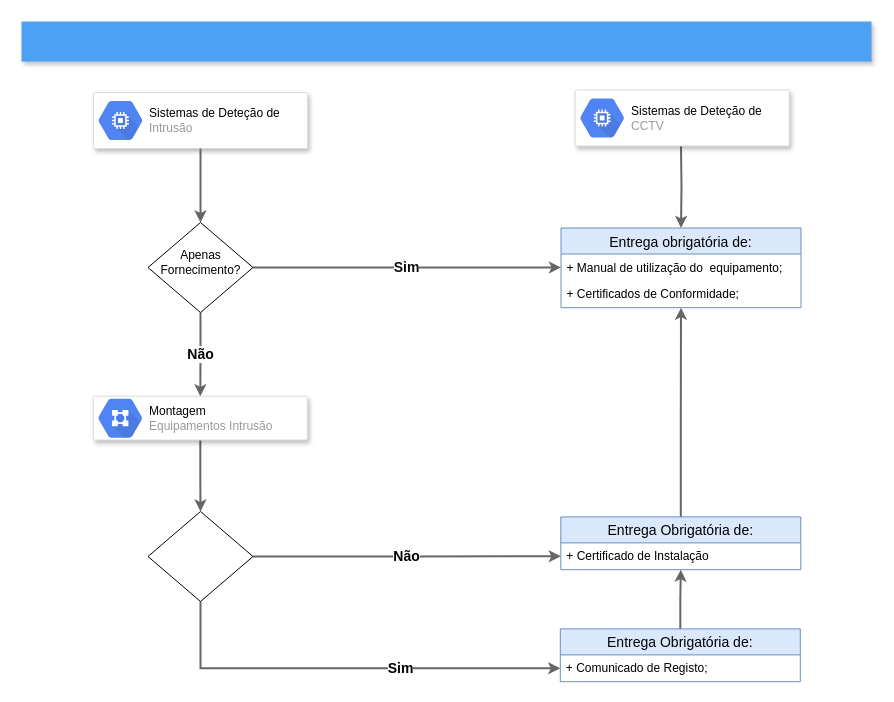
The diagram is 894 pixels wide and 702 high, and some of its shapes have lost their labels. Here are the shapes that lost their labels. From the top down, the centre of each, then its label:
At point (447, 42): "Procedimento para Instalação de Sistemas de Deteção de Intrusão/Videovigilância".
At point (200, 556): "Possui Sirene Exterior ?".
